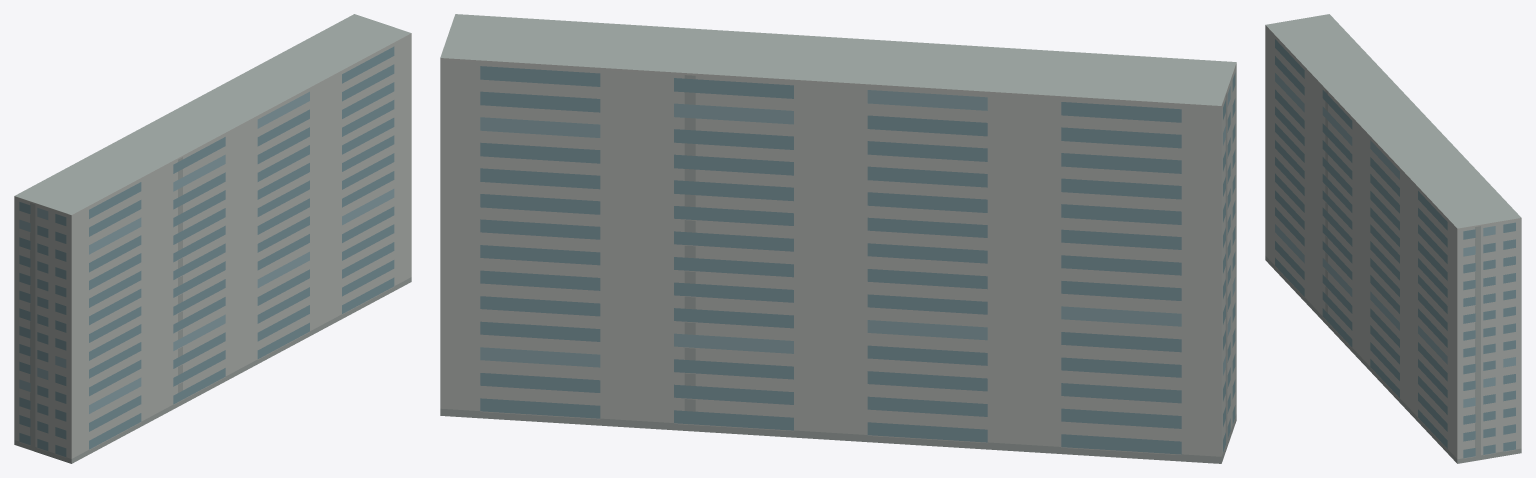
Rendered from residential-e4cb8934-7024-4bfe-8424-c99d03cb3e56.glb.
3 renders of one model, left to right at view 1: azimuth 30°, elevation 25°; view 2: azimuth 150°, elevation 25°; view 3: azimuth 270°, elevation 25°, orthographic. The views are drawn at different scales.
Parts seen in each view (by area): view 1: residential-e4cb8934-7024-4bfe-8424-c99d03cb3e56.tmp; view 2: residential-e4cb8934-7024-4bfe-8424-c99d03cb3e56.tmp; view 3: residential-e4cb8934-7024-4bfe-8424-c99d03cb3e56.tmp.
Boxes of the visible parts, x1,y1,x2,y2 form: residential-e4cb8934-7024-4bfe-8424-c99d03cb3e56.tmp: (14,14,411,463); residential-e4cb8934-7024-4bfe-8424-c99d03cb3e56.tmp: (440,14,1236,463); residential-e4cb8934-7024-4bfe-8424-c99d03cb3e56.tmp: (1265,14,1521,463).
Size of the model in its own units: 83.54 by 42.7 by 42.16.
